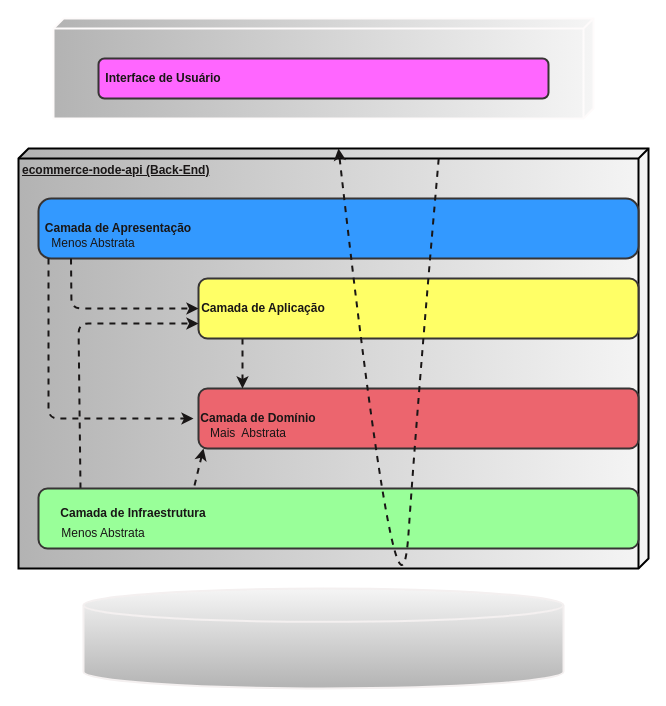
This 666x706 diagram has some shape labels left out. The shapes that lost their labels are listed below. From the top down, each one's box as (x1, y1, x2, y2) in pixels, then its label:
(52, 17, 594, 119): ecommerce-web-app(Front-End)
(82, 587, 564, 689): Database (Relacional)
